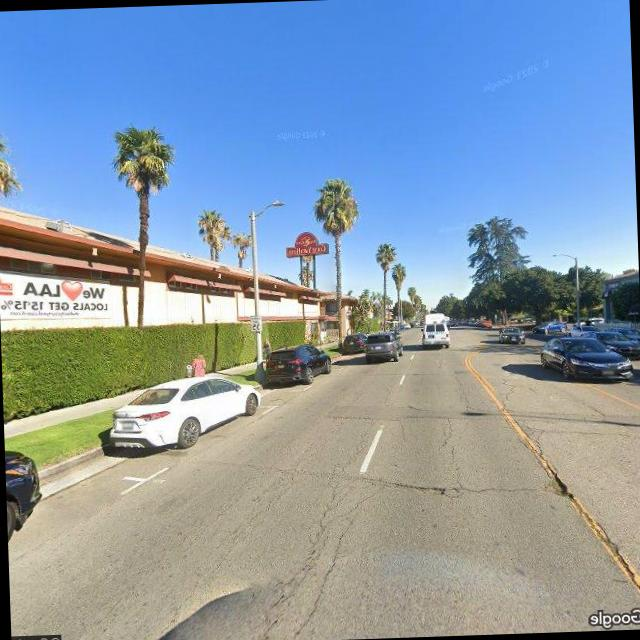crack: (222, 427, 391, 640), (186, 430, 548, 515), (512, 418, 640, 606), (439, 413, 464, 484)
pothole: (538, 466, 580, 501)
